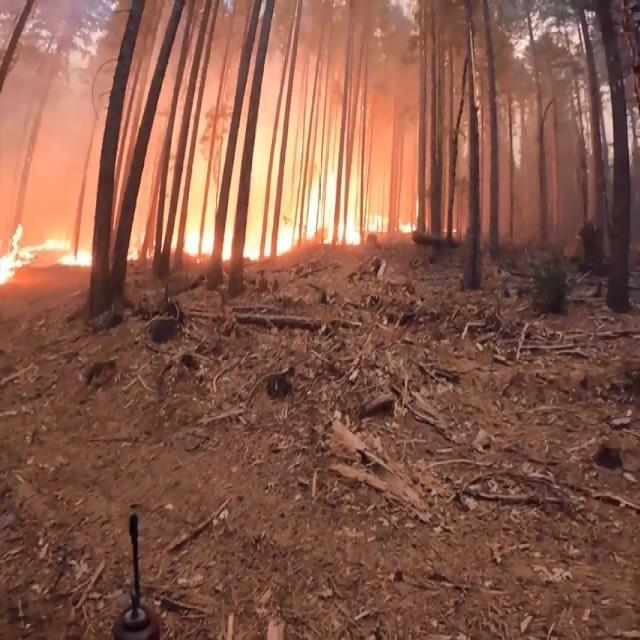Fire: (1, 13, 415, 295)
